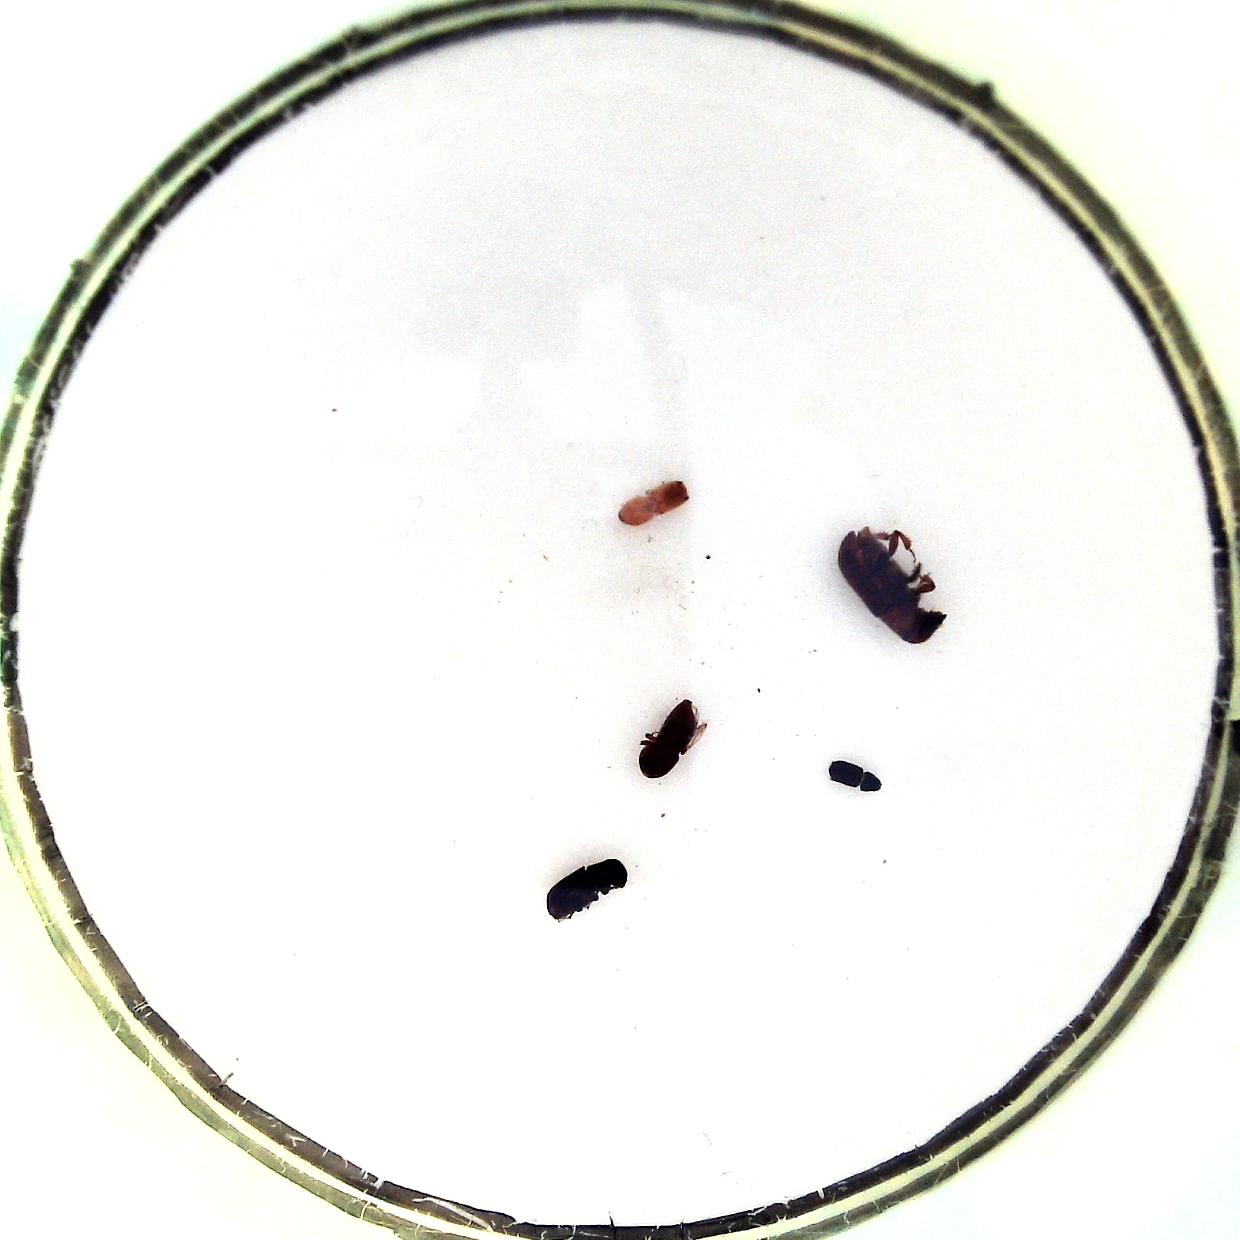Leconte: (836, 523, 946, 642)
Linnaeus: (632, 696, 709, 780)
acuminatus: (611, 476, 692, 529)
armandi: (544, 855, 631, 924)
coleoptera: (826, 753, 887, 799)
